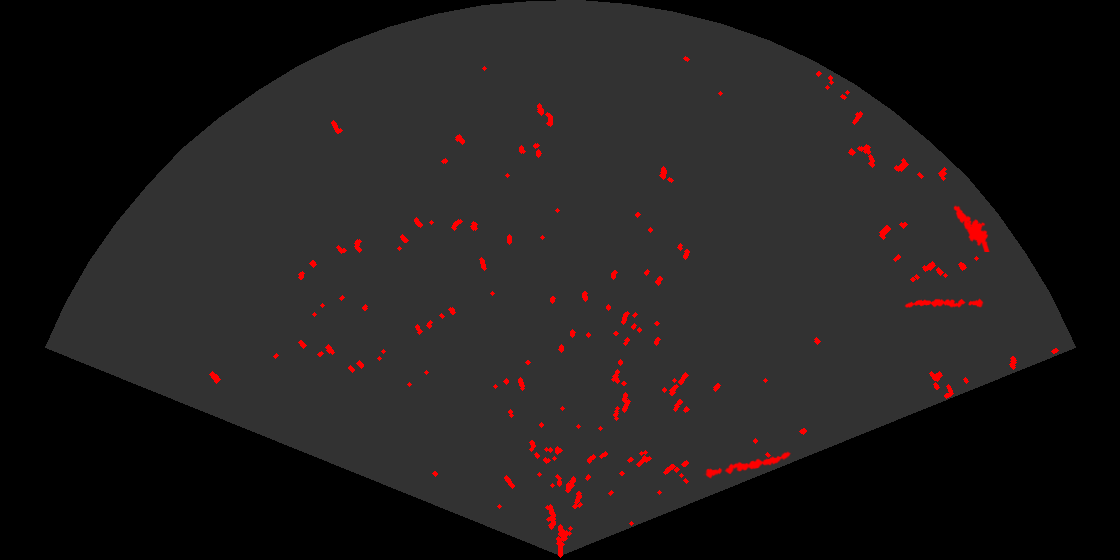chain: (703, 450, 793, 480), (904, 297, 984, 309)
frogman: (952, 203, 991, 252)
